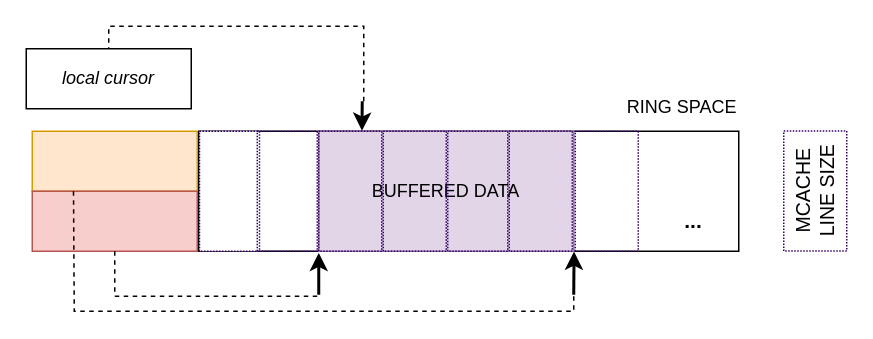
This 873x339 diagram has some shape labels left out. The shapes that lost their labels are listed below. From the top down, each one's box as (x1, y1, x2, y2) in pixels, then its label:
(31, 130, 197, 191): to_read
(31, 190, 197, 251): to_write
